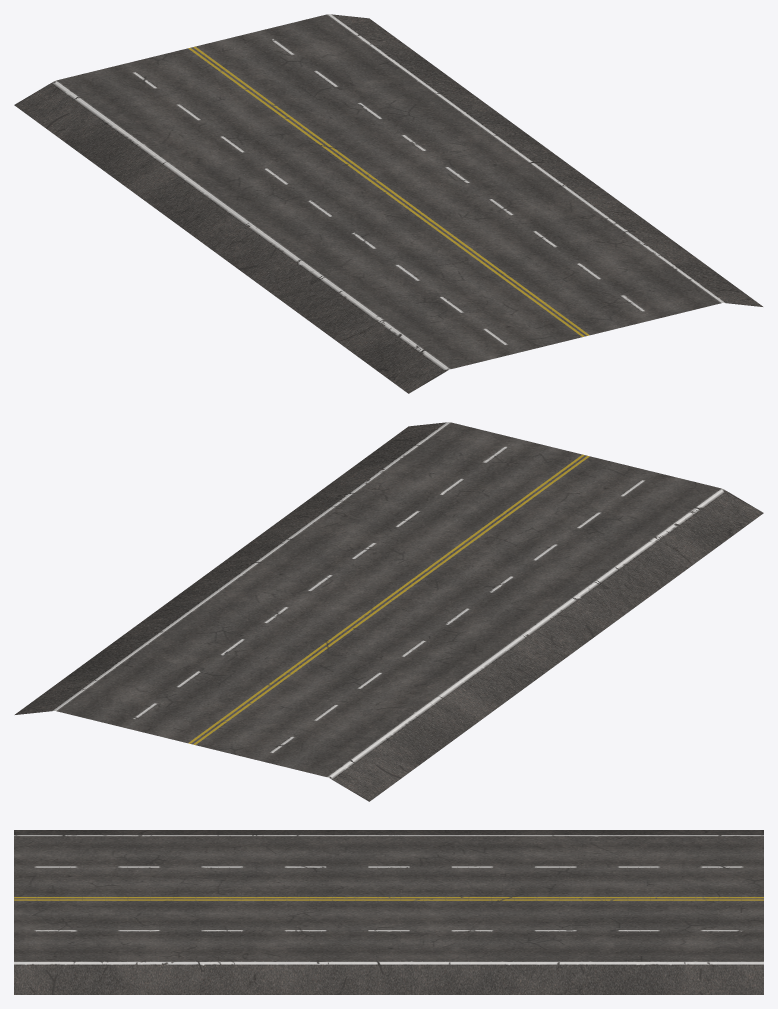
File: RoadSurfaceCollision.fbx
The picture shows the model from 3 angles, top to bottom: view 1: azimuth 30°, elevation 25°; view 2: azimuth 150°, elevation 25°; view 3: azimuth 270°, elevation 25°; orthographic projection. The views are drawn at different scales.
Visible parts, largest first — view 1: RoadSurfaceCollision; view 2: RoadSurfaceCollision; view 3: RoadSurfaceCollision.
Part boxes in pixels (x1=…): RoadSurfaceCollision: x1=14, y1=14, x2=762, y2=393; RoadSurfaceCollision: x1=15, y1=422, x2=763, y2=801; RoadSurfaceCollision: x1=14, y1=830, x2=763, y2=994.
Size of the model in its own units: 260 by 10 by 500.
